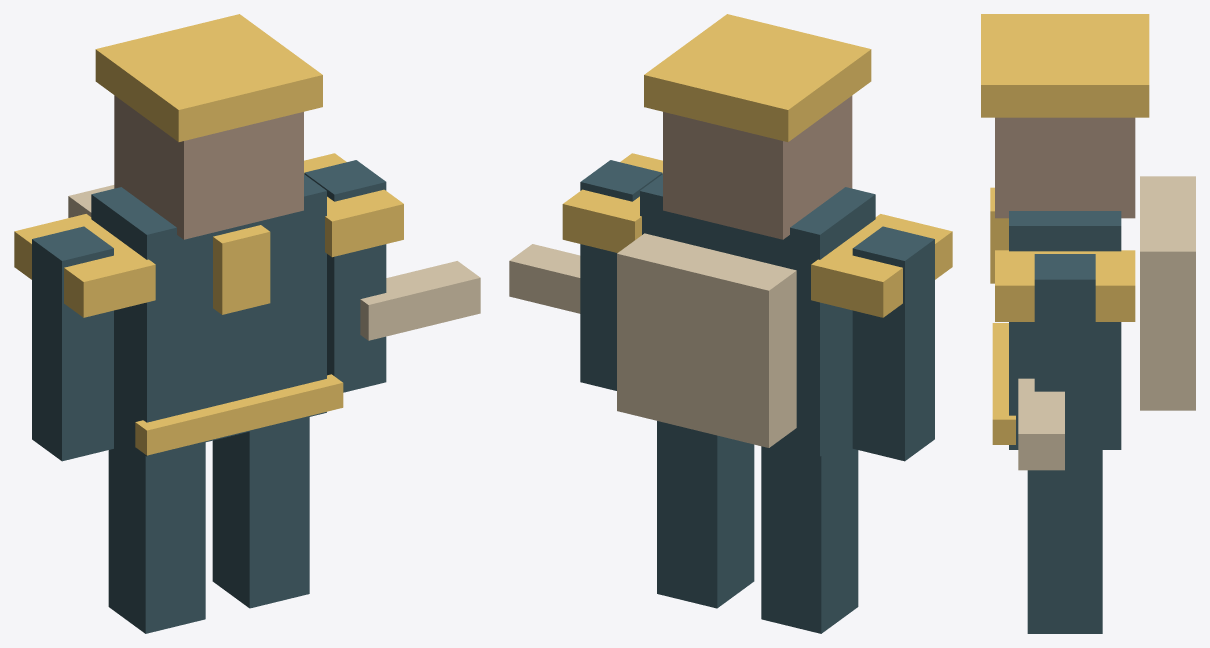
The model's file is 05_pax_signalborn_tamer_of_wild.glb.
The picture shows the model from 3 angles, left to right: view 1: azimuth 30°, elevation 25°; view 2: azimuth 150°, elevation 25°; view 3: azimuth 270°, elevation 25°; orthographic projection.
Visible parts, largest first — view 1: Pax Signalborn, Tamer of Wild; view 2: Pax Signalborn, Tamer of Wild; view 3: Pax Signalborn, Tamer of Wild.
Boxes of the visible parts, bbox=[...] form: Pax Signalborn, Tamer of Wild: bbox=[14, 14, 480, 633]; Pax Signalborn, Tamer of Wild: bbox=[509, 14, 952, 633]; Pax Signalborn, Tamer of Wild: bbox=[981, 14, 1195, 633].
Bounding box in the file's own units: 1.11 × 1.39 × 0.4976.
